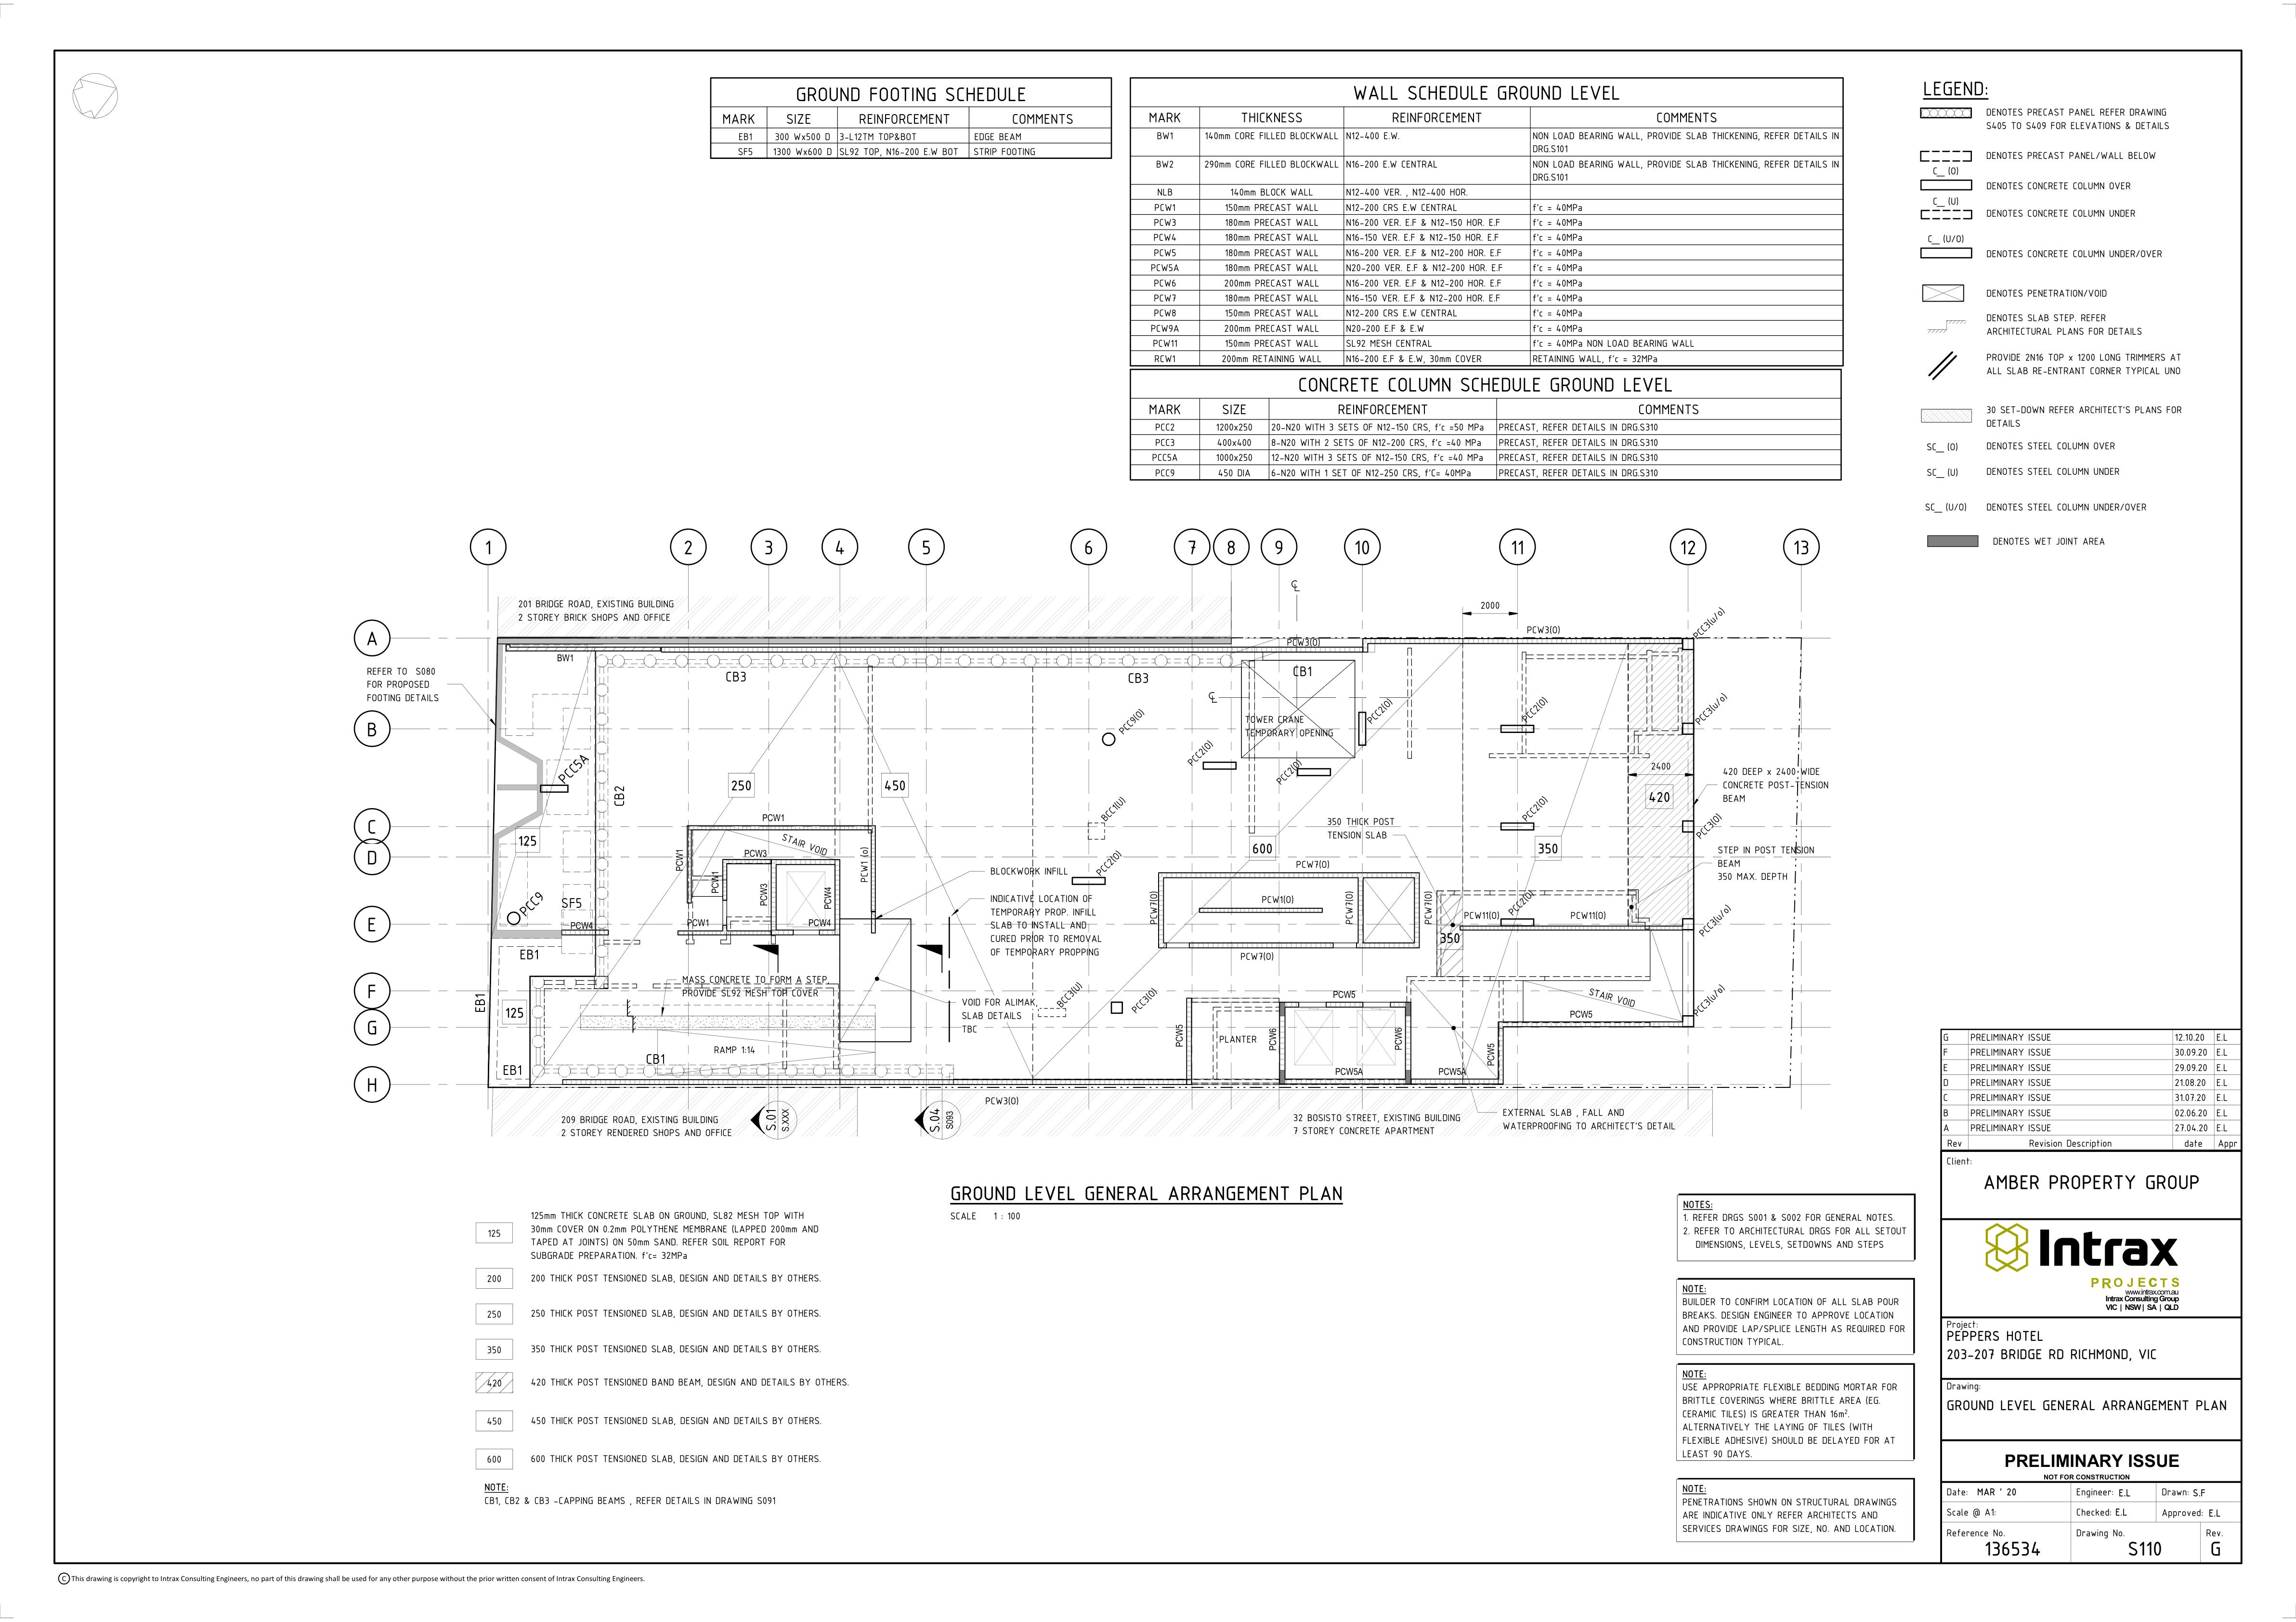BCC1(U): (1099, 795, 1129, 822)
BCC3(U): (1051, 981, 1092, 1008)
BW1: (549, 650, 581, 665)
CB1: (1285, 662, 1318, 679), (641, 1048, 667, 1066)
CB2: (609, 779, 634, 811)
CB3: (1122, 664, 1160, 686), (721, 667, 751, 686)
EB1: (495, 1055, 527, 1080), (469, 988, 488, 1016), (520, 946, 544, 967)
PCC2(O): (1518, 695, 1557, 727), (1503, 886, 1538, 916), (1094, 846, 1127, 876), (1518, 795, 1552, 820), (1274, 758, 1302, 783), (1367, 699, 1396, 723), (1185, 741, 1213, 764)
PCC3(O): (1129, 990, 1162, 1015)
PCC5A: (553, 755, 590, 783)
PCC9: (516, 890, 546, 916)
PCC9(O): (1115, 706, 1152, 736)
PCW1: (665, 846, 686, 874), (683, 916, 713, 932), (760, 811, 792, 825), (855, 858, 871, 886), (707, 867, 721, 895)
PCW1(O): (1259, 890, 1297, 908)
PCW11(O): (1457, 904, 1503, 923), (1566, 906, 1606, 923)
PCW3: (757, 878, 772, 906), (741, 848, 774, 860)
PCW3(O): (1697, 813, 1726, 843), (1522, 618, 1568, 635), (981, 1094, 1027, 1109), (1285, 634, 1325, 646)
PCW3(U/O): (1689, 693, 1733, 727), (1696, 978, 1729, 1022), (1689, 602, 1727, 635), (1701, 902, 1733, 941)
PCW4: (569, 918, 593, 934), (820, 886, 836, 911), (807, 918, 834, 930)
PCW5: (1562, 1002, 1601, 1023), (1327, 985, 1359, 1004), (1482, 1043, 1497, 1069), (1174, 1022, 1187, 1050)
PCW5A: (1432, 1062, 1471, 1078), (1336, 1064, 1367, 1078)
PCW6: (1392, 1027, 1408, 1053), (1267, 1025, 1278, 1051)
PCW7(O): (1139, 886, 1160, 929), (1418, 883, 1436, 929), (1238, 948, 1281, 965), (1339, 883, 1357, 927), (1294, 853, 1331, 872)
SF5: (558, 890, 583, 911)
